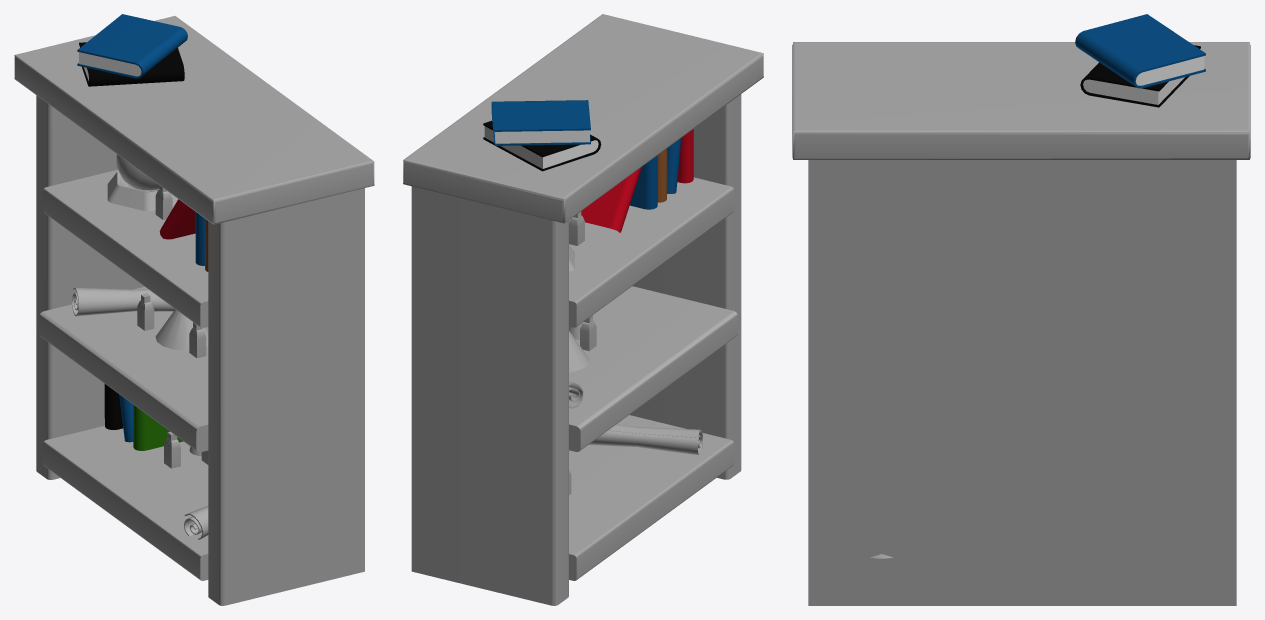
File: Bookcase_3.fbx
The picture shows the model from 3 angles, left to right: view 1: azimuth 30°, elevation 25°; view 2: azimuth 150°, elevation 25°; view 3: azimuth 270°, elevation 25°; orthographic projection. The views are drawn at different scales.
Visible parts, largest first — view 1: Bookcase_3; view 2: Bookcase_3; view 3: Bookcase_3.
Boxes of the visible parts, x1,y1,x2,y2 form: Bookcase_3: [14, 14, 374, 605]; Bookcase_3: [403, 14, 763, 605]; Bookcase_3: [792, 14, 1250, 605].
Size of the model in its own units: 0.0293 by 0.0773 by 0.0626.
